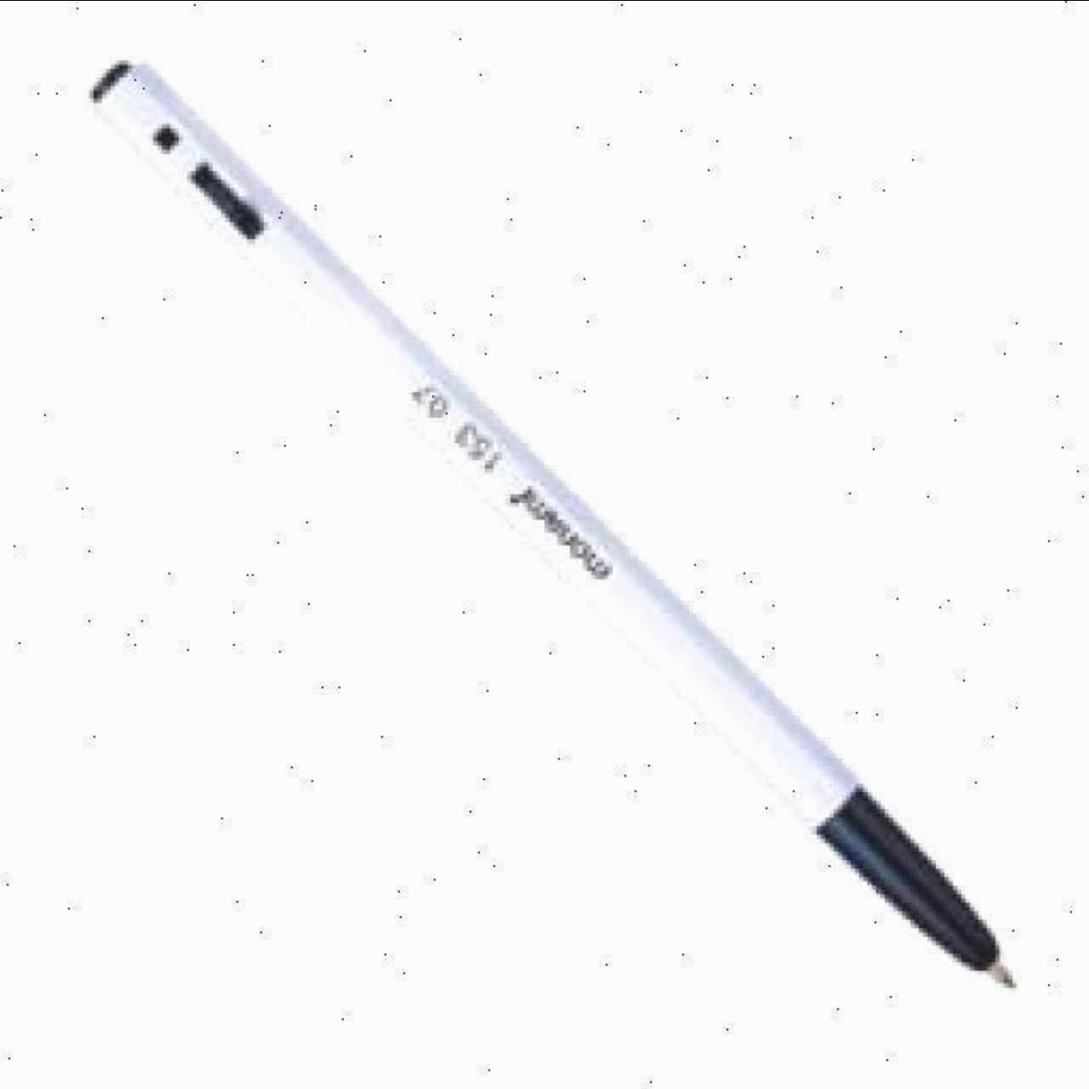pen: (82, 49, 1031, 990)
